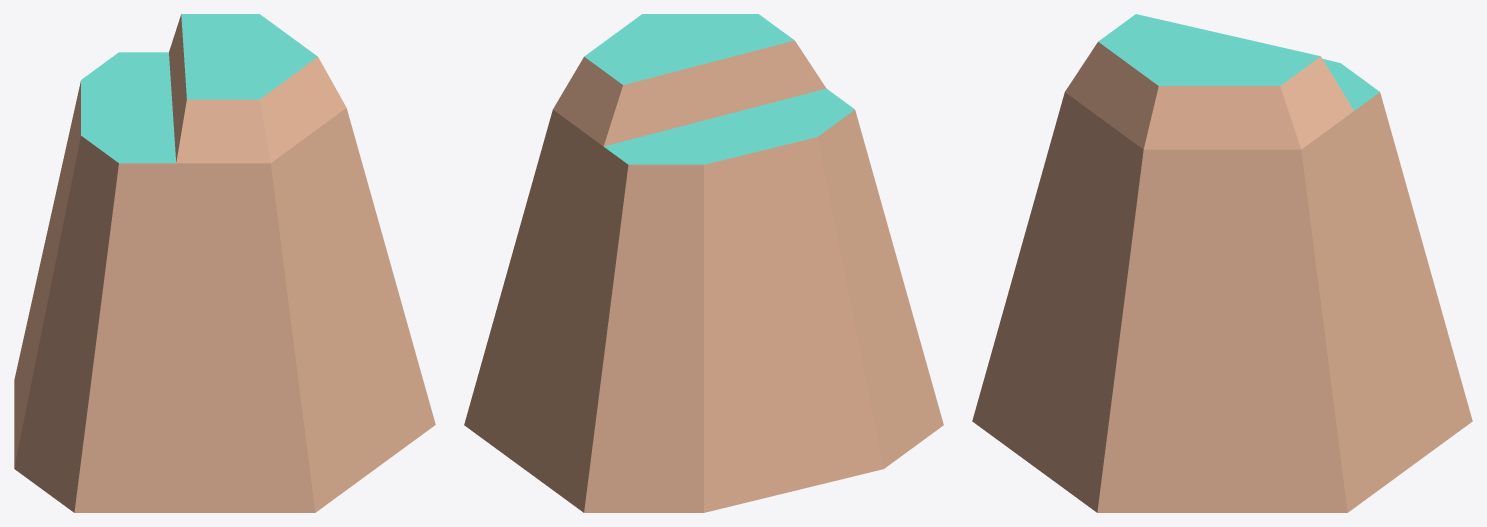
The model's file is rock-talle.glb.
3 views of the same model, side by side, from view 1: azimuth 30°, elevation 25°; view 2: azimuth 150°, elevation 25°; view 3: azimuth 270°, elevation 25° (orthographic). The views are drawn at different scales.
Visible parts, largest first — view 1: rock_tallE; view 2: rock_tallE; view 3: rock_tallE.
Boxes of the visible parts, x1=… form: rock_tallE: x1=14, y1=14, x2=435, y2=512; rock_tallE: x1=464, y1=14, x2=943, y2=512; rock_tallE: x1=972, y1=14, x2=1472, y2=512.
Size of the model in its own units: 0.4562 by 0.4438 by 0.5268.
